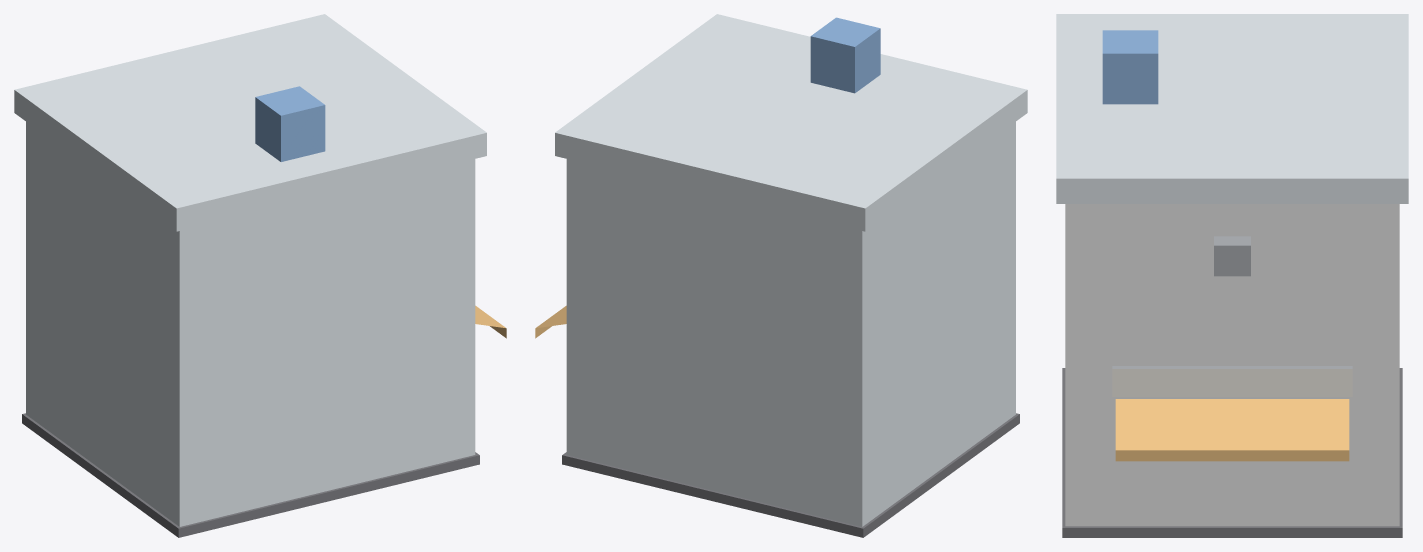
File: Bldg_B.fbx
The picture shows the model from 3 angles, left to right: view 1: azimuth 30°, elevation 25°; view 2: azimuth 150°, elevation 25°; view 3: azimuth 270°, elevation 25°; orthographic projection. The views are drawn at different scales.
Parts seen in each view (by area): view 1: Bldg_B; view 2: Bldg_B; view 3: Bldg_B.
Part boxes in pixels (x1,y1,x2,y2): Bldg_B: [14, 14, 506, 537]; Bldg_B: [535, 14, 1027, 537]; Bldg_B: [1056, 14, 1408, 537].
Bounding box in the file's own units: 7.25 × 7.35 × 5.7.
